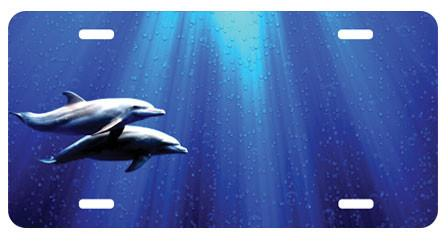dolphin: (33, 125, 189, 176), (12, 86, 172, 135)
